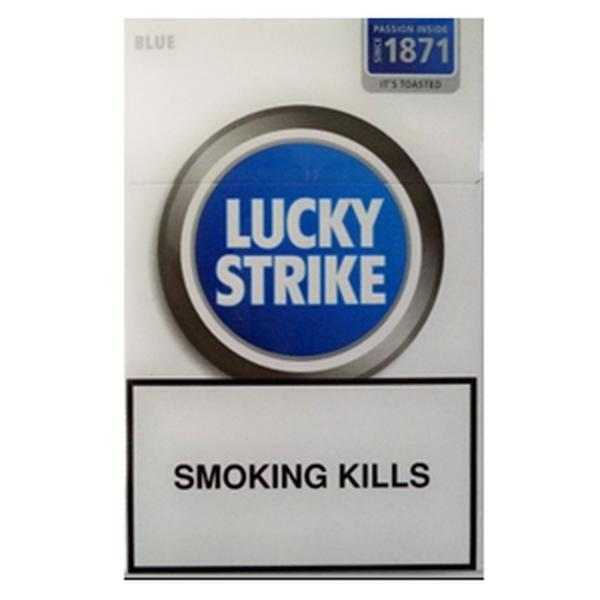lucky_strike_blue: (125, 21, 482, 581)
